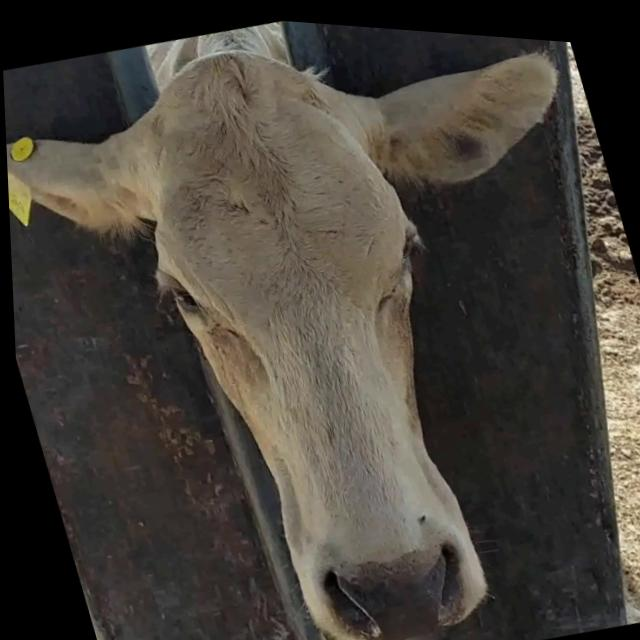cowFace: (92, 6, 524, 640)
